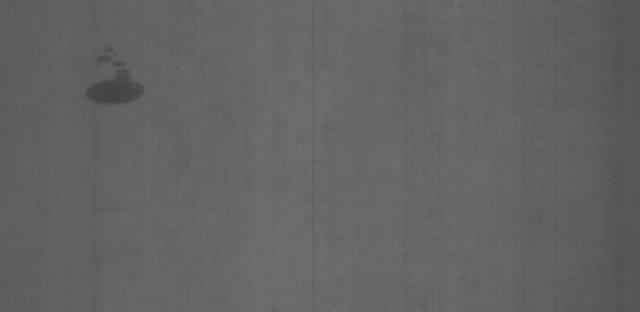oil_spot: (70, 44, 155, 114)
